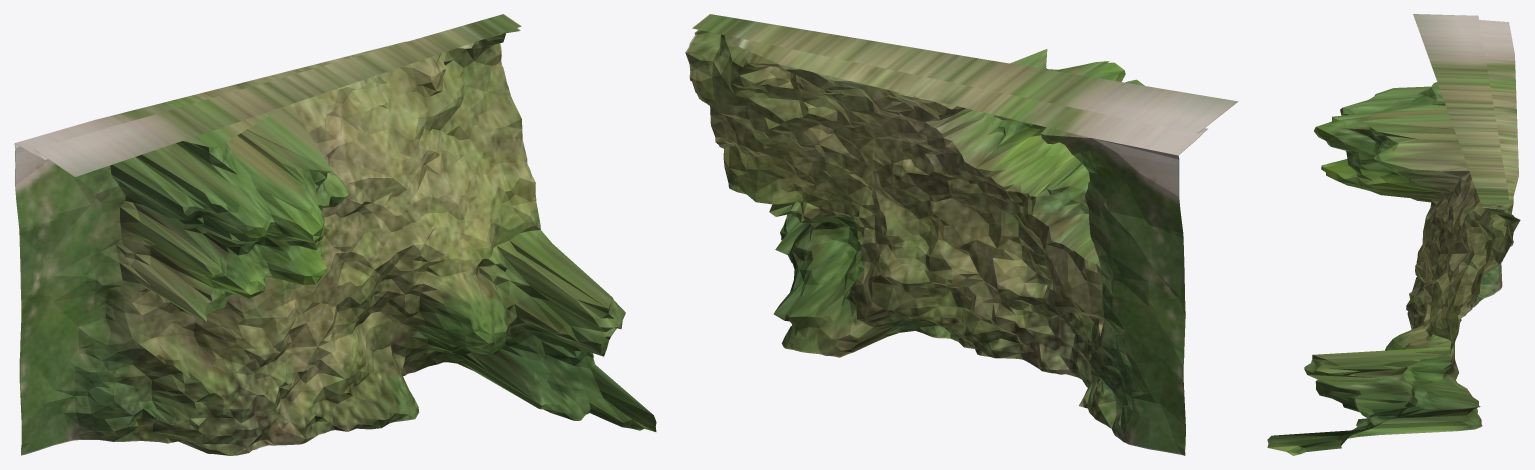
File: map_270_90.obj
The picture shows the model from 3 angles, left to right: view 1: azimuth 30°, elevation 25°; view 2: azimuth 150°, elevation 25°; view 3: azimuth 270°, elevation 25°; orthographic projection. The views are drawn at different scales.
Visible parts, largest first — view 1: grp1; view 2: grp1; view 3: grp1.
Part boxes in pixels (box(x1,y1,x2,y2)): grp1: box(14, 14, 656, 455); grp1: box(685, 14, 1238, 455); grp1: box(1267, 14, 1520, 455).
Size of the model in its own units: 10 by 6.2 by 5.65.
Materials: 1 (1 with a texture image).
